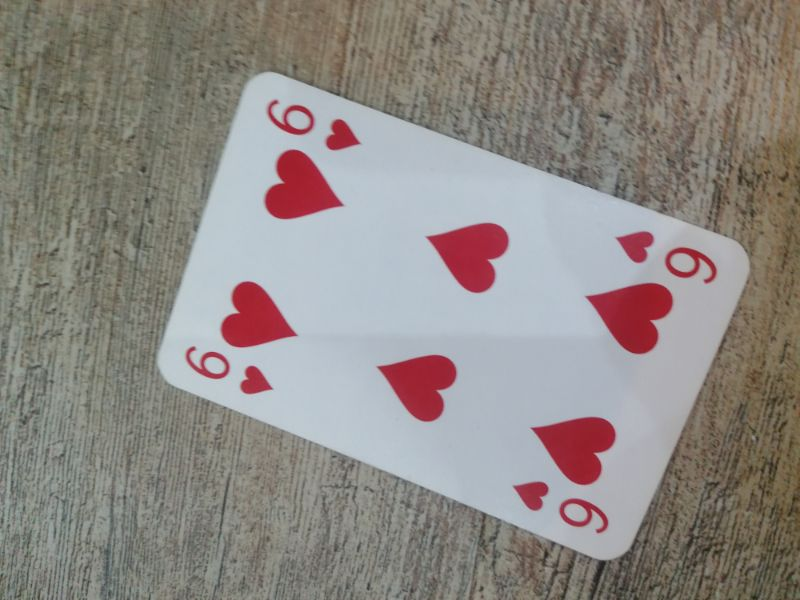6h: (614, 226, 721, 290), (511, 474, 614, 538), (264, 95, 363, 154), (183, 343, 276, 398)
